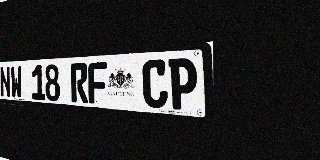1: (31, 65, 45, 100)
8: (45, 64, 60, 101)
C: (142, 59, 168, 109)
F: (88, 62, 107, 105)
N: (0, 66, 11, 98)
P: (168, 58, 197, 111)
R: (71, 63, 88, 103)
W: (10, 66, 22, 99)
